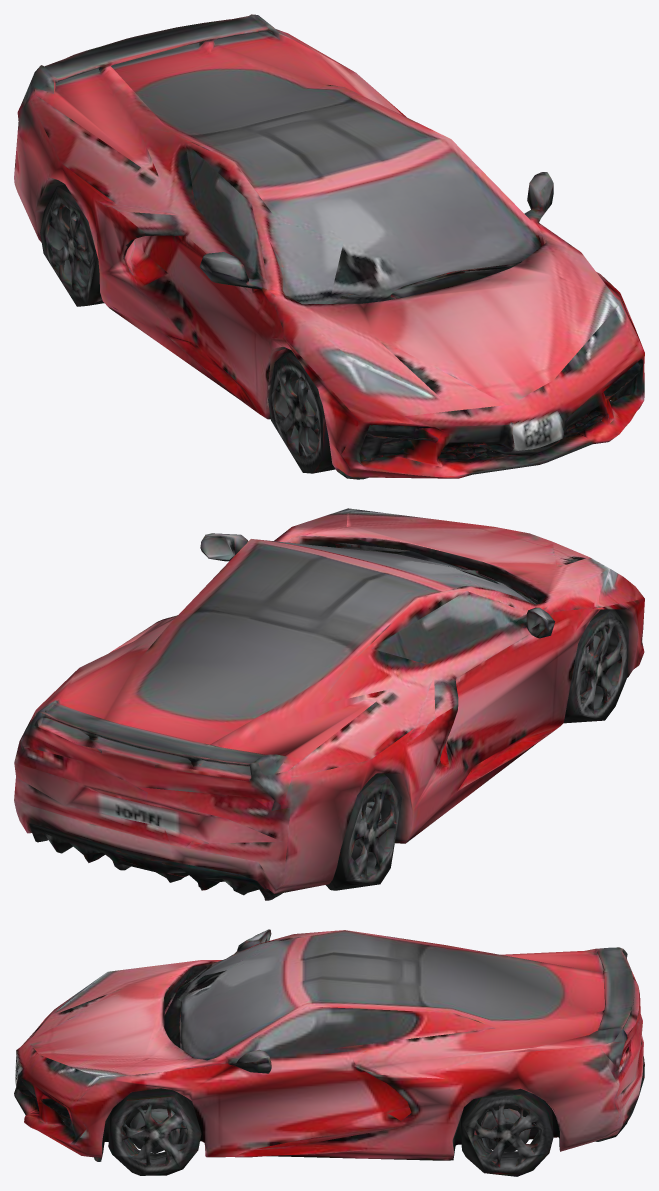
The model's file is car1.glb.
3 renders of one model, top to bottom at view 1: azimuth 30°, elevation 25°; view 2: azimuth 150°, elevation 25°; view 3: azimuth 270°, elevation 25°, orthographic. The views are drawn at different scales.
Parts seen in each view (by area): view 1: tripo_node_951d82e5; view 2: tripo_node_951d82e5; view 3: tripo_node_951d82e5.
Boxes of the visible parts, x1,y1,x2,y2 form: tripo_node_951d82e5: (14,14,644,479); tripo_node_951d82e5: (14,508,644,900); tripo_node_951d82e5: (14,929,644,1176).
Size of the model in its own units: 0.4819 by 0.2681 by 0.9761.
1 material, 1 textured.
